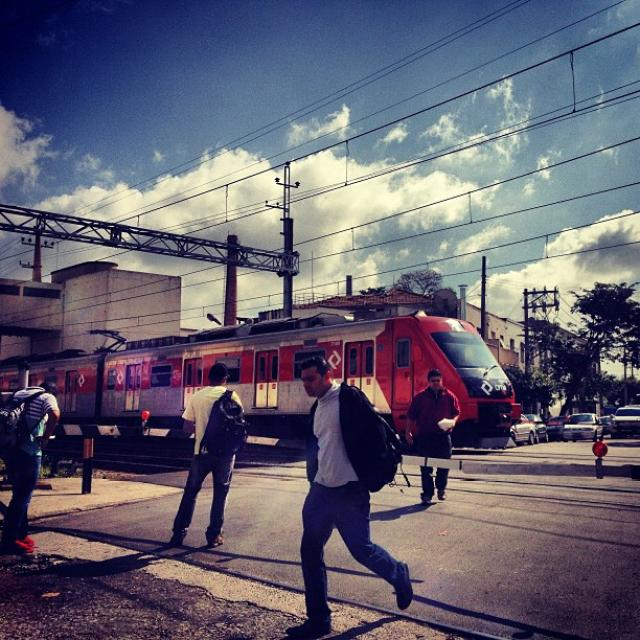Vehicle: (563, 413, 604, 444), (608, 404, 640, 439), (610, 407, 640, 437), (509, 413, 537, 443), (524, 414, 548, 443), (546, 416, 569, 441)
